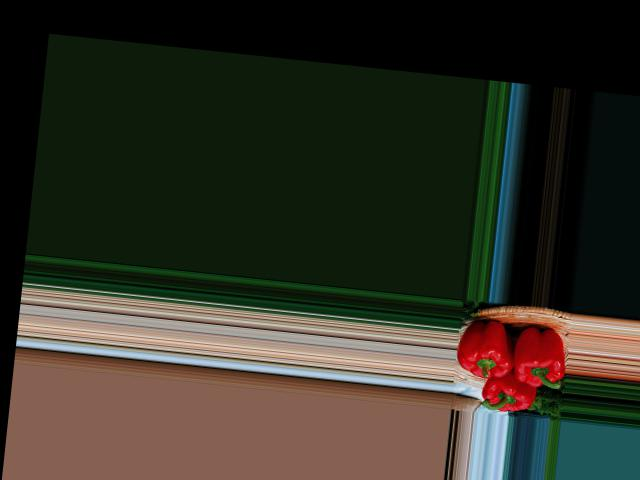bell_pepper: (503, 316, 569, 390)
